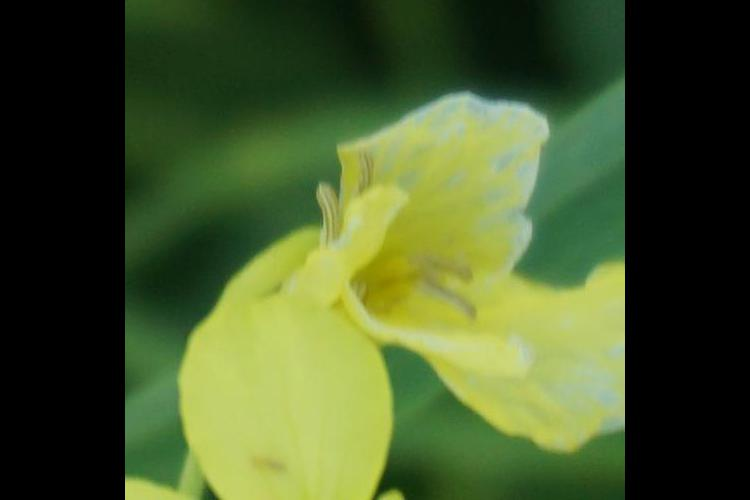yellow: (174, 100, 625, 452), (130, 251, 598, 500)
